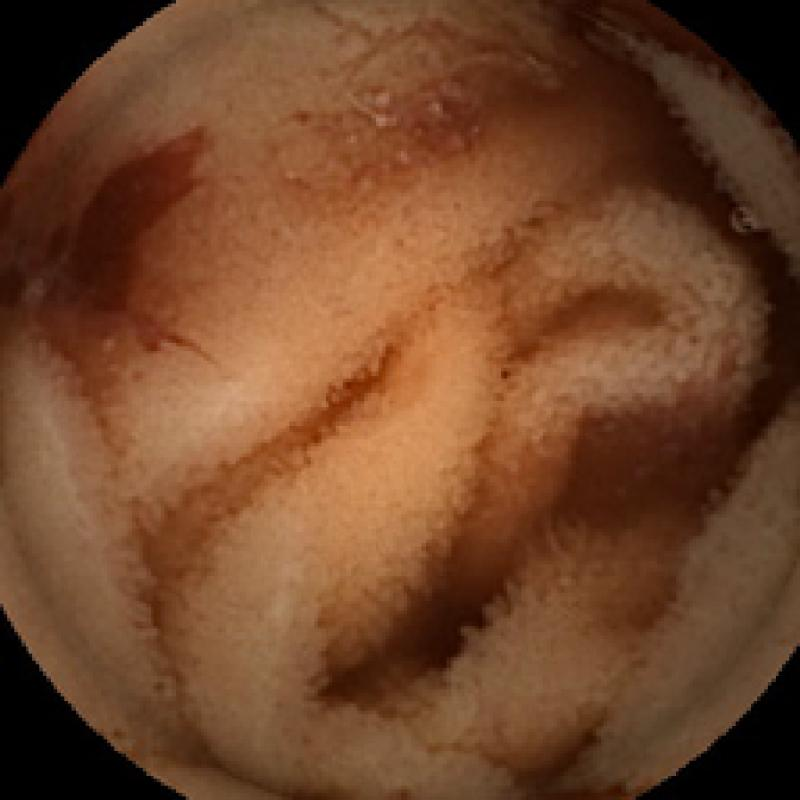bleeding: (46, 110, 211, 328)
